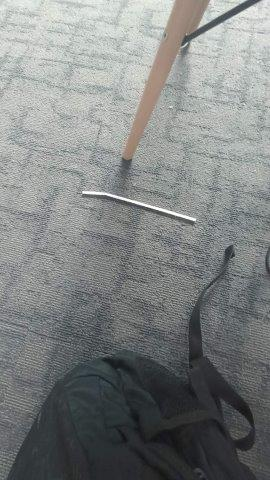sedotan: (82, 191, 196, 223)
